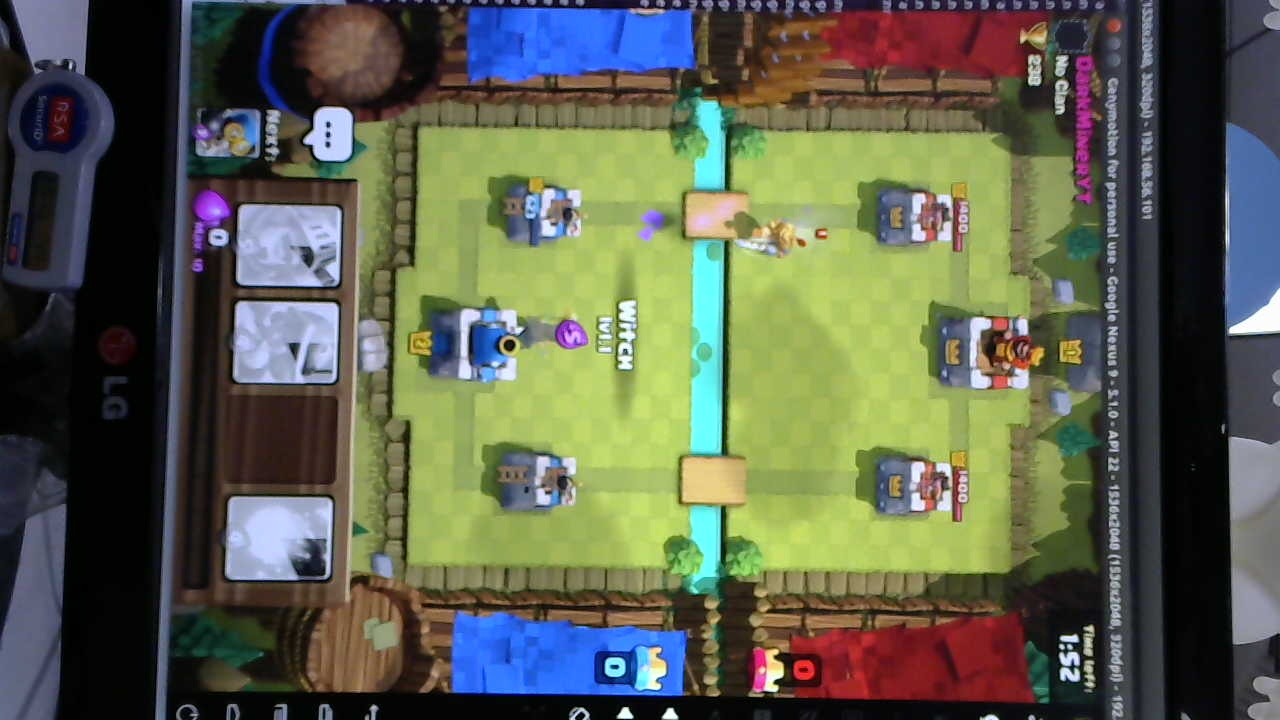arena: (493, 446, 580, 514), (504, 180, 585, 244)
earena: (870, 453, 956, 521), (869, 185, 955, 249)
eking: (935, 307, 1040, 391)
king: (426, 304, 525, 384)
prince: (736, 218, 809, 260)
